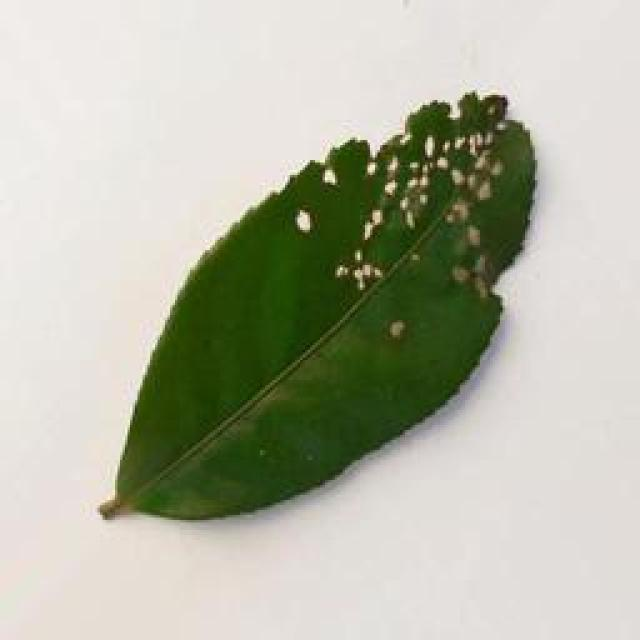Helopeltis: (87, 78, 550, 544)
